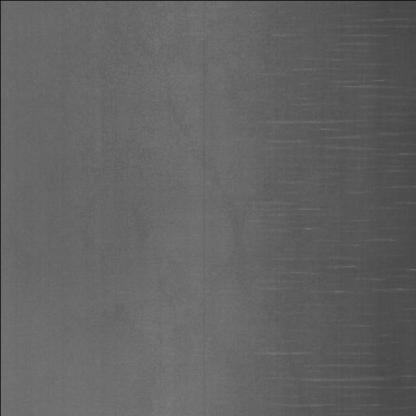waist_folding: (243, 0, 406, 385)
